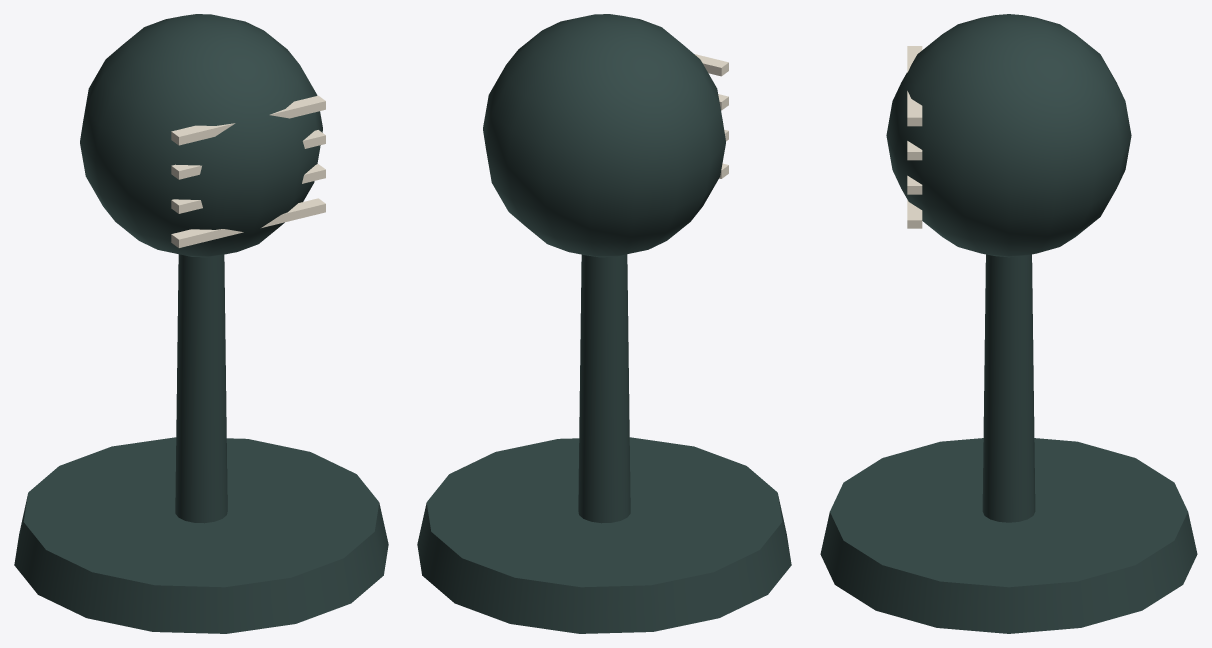
The picture shows the model from 3 angles, left to right: view 1: azimuth 30°, elevation 25°; view 2: azimuth 150°, elevation 25°; view 3: azimuth 270°, elevation 25°; orthographic projection.
Visible parts, largest first — view 1: base, head, stem, grille0, grille3, grille2, grille1; view 2: base, head, stem; view 3: base, head, stem, grille3.
Boxes of the visible parts, x1,y1,x2,y2 form: base: (14,437,388,633); head: (80,14,322,257); stem: (175,254,227,523); grille0: (171,198,325,247); grille3: (171,95,325,145); grille2: (171,130,325,179); grille1: (171,164,325,213); base: (417,437,791,633); head: (483,14,725,257); stem: (578,254,630,523); base: (820,438,1197,633); head: (886,14,1131,257); stem: (982,254,1035,522); grille3: (907,46,922,126).
Size of the model in its own units: 0.2 by 0.31 by 0.2.
